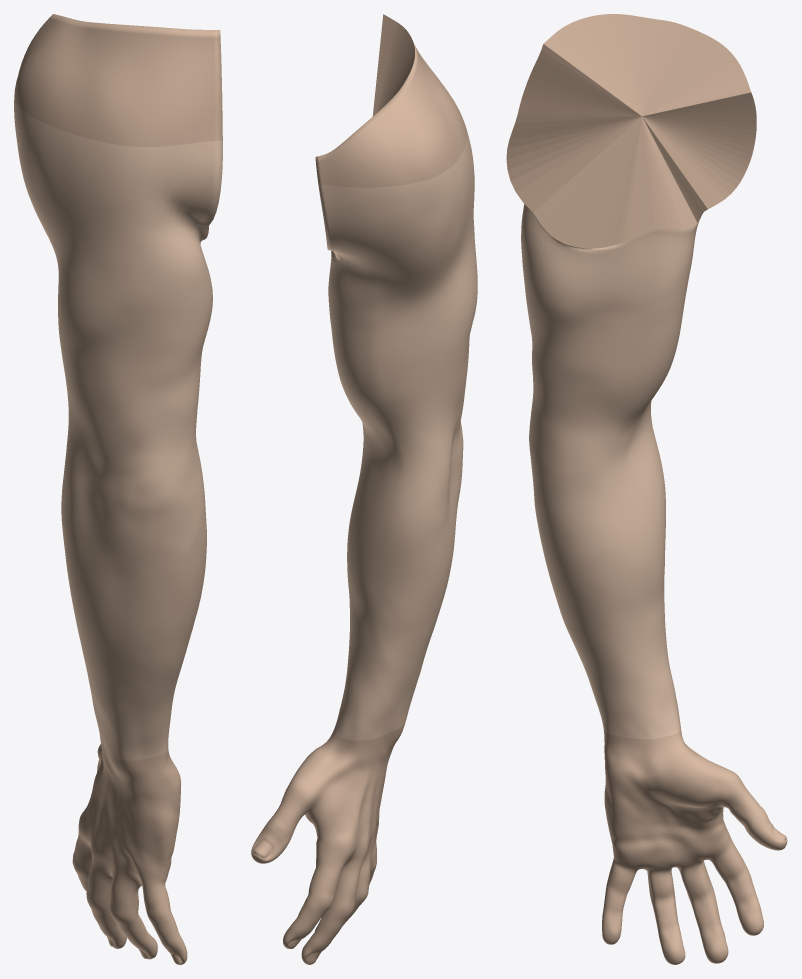
The model's file is male-arm-left.glb.
3 views of the same model, side by side, from view 1: azimuth 30°, elevation 25°; view 2: azimuth 150°, elevation 25°; view 3: azimuth 270°, elevation 25° (orthographic). The views are drawn at different scales.
Visible parts, largest first — view 1: paintable, context; view 2: paintable, context; view 3: context, paintable.
Part boxes in pixels (x1,y1,x2,y2): paintable: (14, 98, 222, 760); context: (14, 14, 222, 964); paintable: (318, 130, 477, 740); context: (251, 14, 466, 964); context: (506, 14, 787, 964); paintable: (521, 204, 703, 739).
Size of the model in its own units: 137 by 822 by 226.
